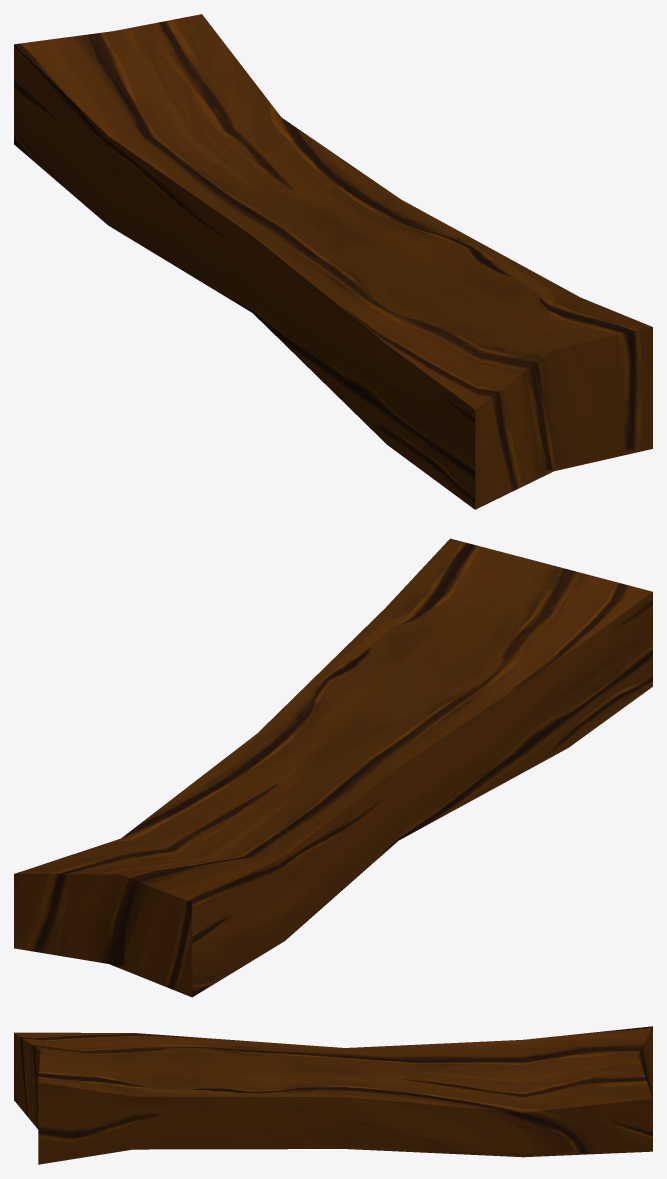
The model's file is Plank1.fbx.
3 renders of one model, top to bottom at view 1: azimuth 30°, elevation 25°; view 2: azimuth 150°, elevation 25°; view 3: azimuth 270°, elevation 25°, orthographic. The views are drawn at different scales.
Visible parts, largest first — view 1: Wood_Plank1; view 2: Wood_Plank1; view 3: Wood_Plank1.
Boxes of the visible parts, box(x1,y1,x2,y2) form: Wood_Plank1: box(14, 14, 652, 509); Wood_Plank1: box(14, 538, 652, 997); Wood_Plank1: box(14, 1026, 652, 1164).
Size of the model in its own units: 0.6999 by 0.406 by 2.86.
